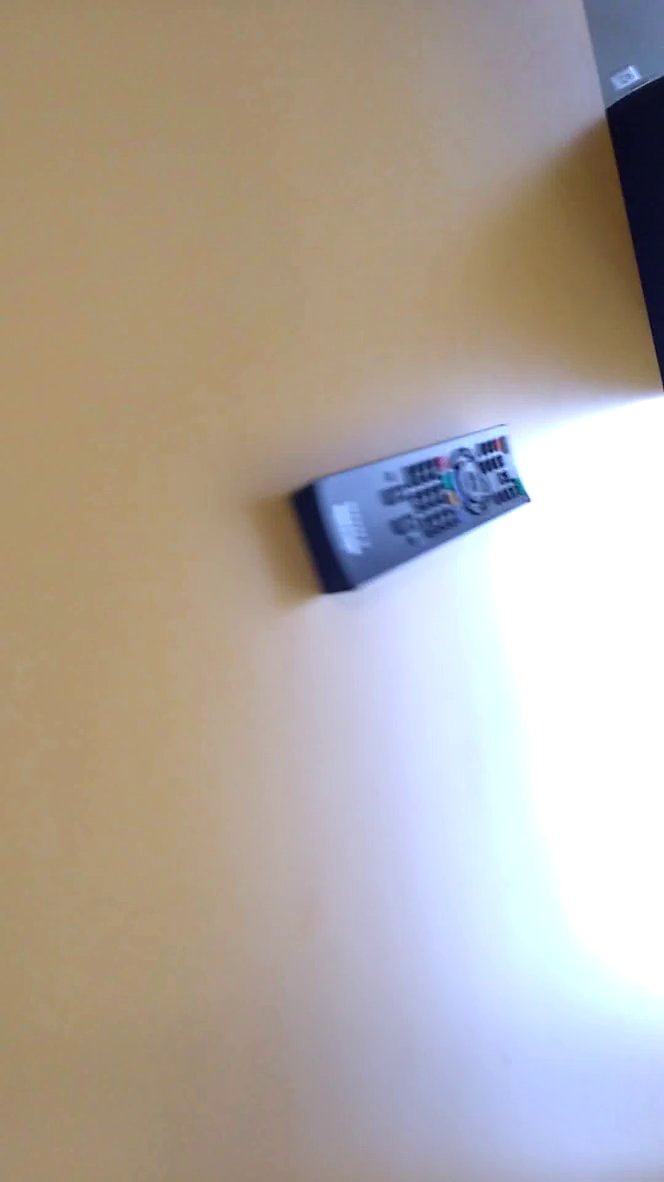remote: (275, 405, 549, 620)
